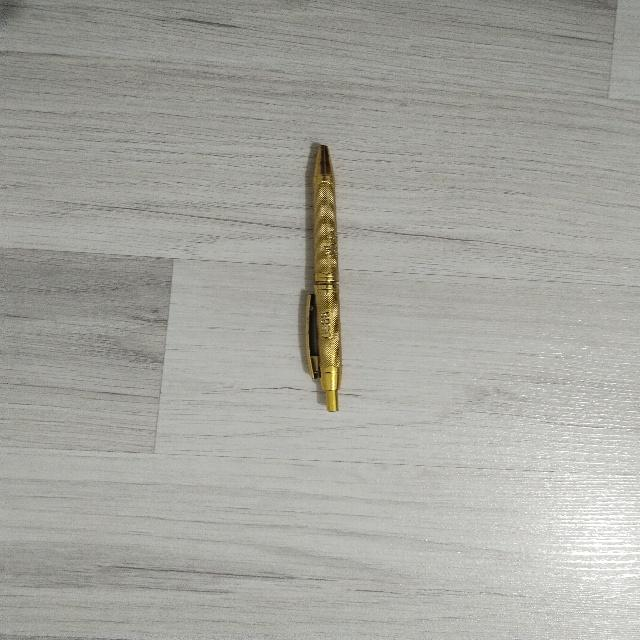signature pen: (306, 145, 341, 410)
